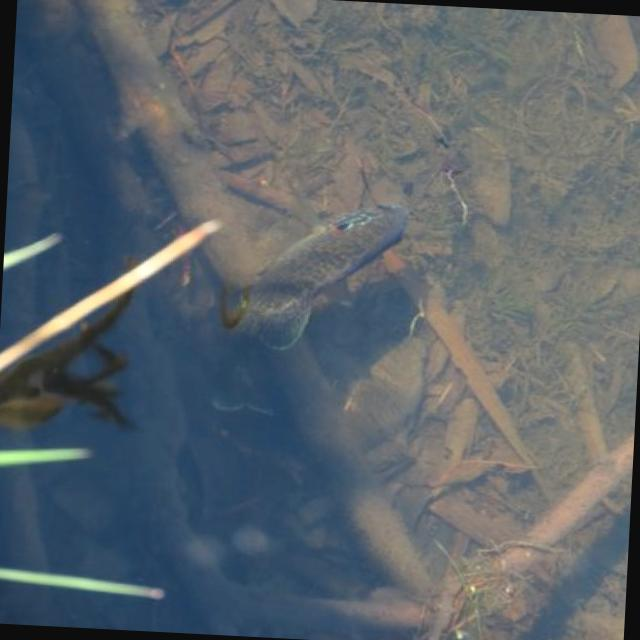Gunes Levregi: (218, 190, 412, 362)
